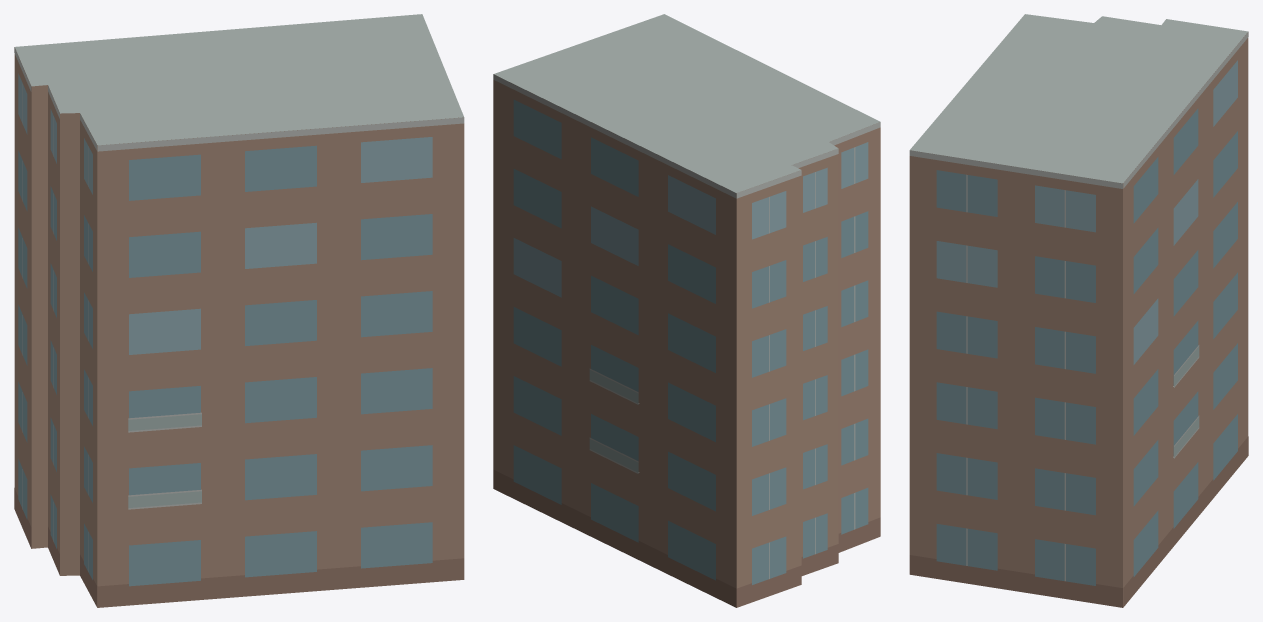
The model's file is survey-upis-32872638.glb.
3 views of the same model, side by side, from view 1: azimuth 30°, elevation 25°; view 2: azimuth 150°, elevation 25°; view 3: azimuth 270°, elevation 25° (orthographic). The views are drawn at different scales.
Visible parts, largest first — view 1: survey-upis-32872638.tmp; view 2: survey-upis-32872638.tmp; view 3: survey-upis-32872638.tmp.
Part boxes in pixels (bbox=[...]): survey-upis-32872638.tmp: bbox=[14, 14, 464, 607]; survey-upis-32872638.tmp: bbox=[493, 14, 880, 607]; survey-upis-32872638.tmp: bbox=[909, 14, 1248, 607].
Bounding box in the file's own units: 15.68 × 18.3 × 13.25.
